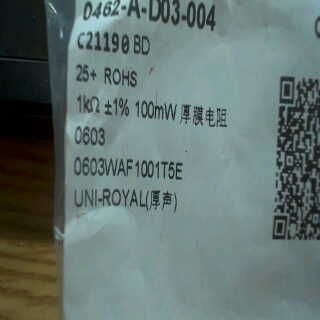1kR: (73, 91, 100, 114)
